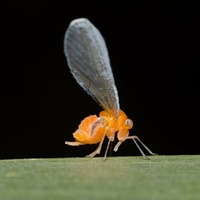insect: (64, 18, 155, 158)
